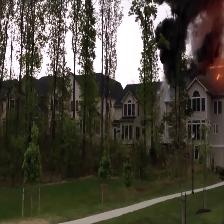smoke: (160, 17, 184, 79), (188, 2, 207, 72)
